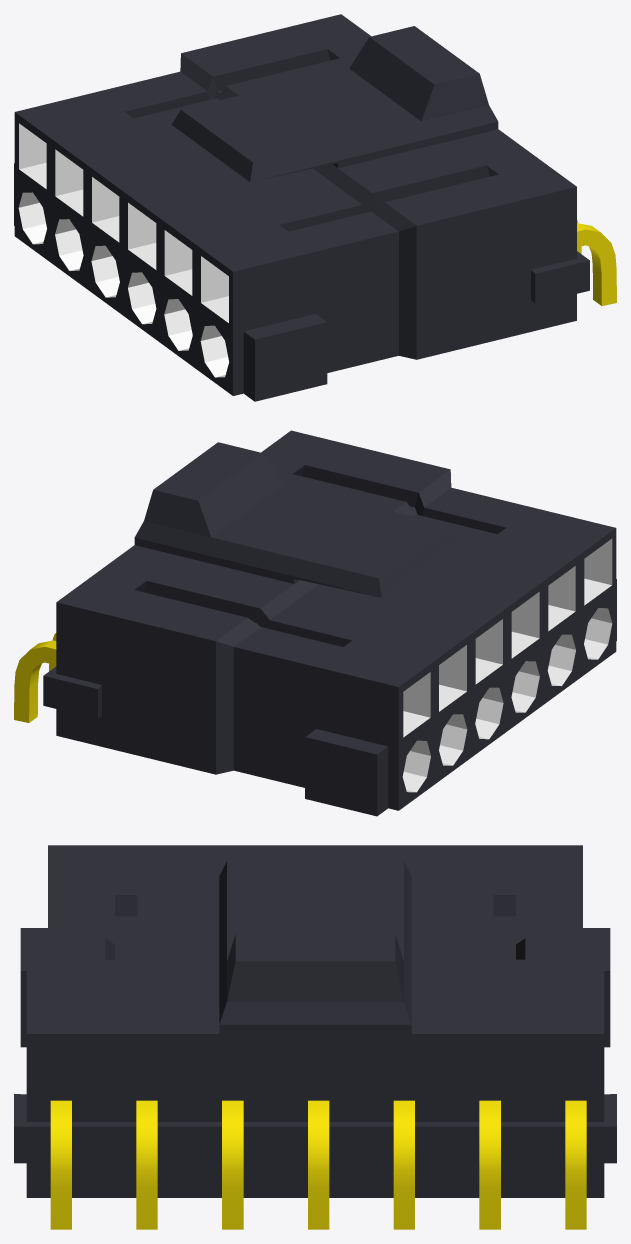
Rendered from PlugNode4_End.fbx.
3 views of the same model, one above another, from view 1: azimuth 30°, elevation 25°; view 2: azimuth 150°, elevation 25°; view 3: azimuth 270°, elevation 25° (orthographic). The views are drawn at different scales.
Visible parts, largest first — view 1: PlugNode4_End; view 2: PlugNode4_End; view 3: PlugNode4_End.
Boxes of the visible parts, <box> form: PlugNode4_End: <box>14,14,616,401</box>; PlugNode4_End: <box>14,430,616,816</box>; PlugNode4_End: <box>14,845,616,1229</box>.
Bounding box in the file's own units: 56.05 × 26.31 × 62.11.
